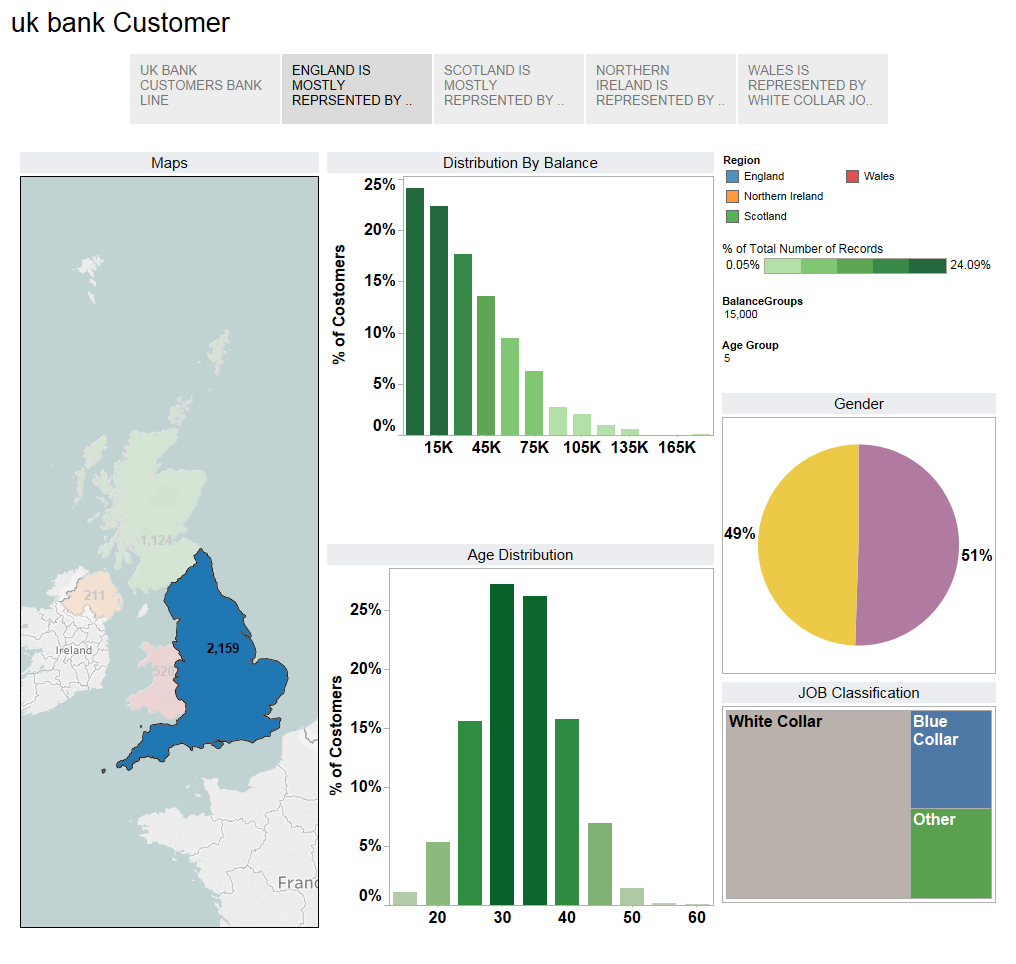

What the dashboard file says about the page in this screenshot:
{"tool":"tableau","page":{"name":"Costomer Segmentation","canvas":[1000,800],"ordinal":0},"visuals":[{"type":"worksheet","title":"Maps","mark":"Multipolygon","box":[8,8,306.9,784]},{"type":"worksheet","title":"Distribution By Balance ","mark":"Automatic","rows":["Number of Records"],"cols":["Balance (bin)"],"box":[314.9,8,395.1,392]},{"type":"legend","title":"Maps","param":"[federated.06w1h3n15af2w2138ys471fpdggo].[none:Region:nk]","box":[710,8,282,86]},{"type":"legend","title":"Distribution By Balance ","param":"[federated.06w1h3n15af2w2138ys471fpdggo].[pcto:sum:Number of Records:qk]","box":[710,94,282,56]},{"type":"parameter","param":"[Parameters].[Parameter 1]","box":[710,150,282,44]},{"type":"parameter","param":"[Parameters].[Parameter 2]","box":[710,194,282,55]},{"type":"worksheet","title":"Gender","mark":"Pie","box":[710,249,282,289]},{"type":"worksheet","title":"Age Distribution","mark":"Bar","rows":["Number of Records"],"cols":["Age (bin)"],"box":[314.9,400,395.1,392]},{"type":"worksheet","title":"JOB Classification","mark":"Automatic","box":[710,538,282,254]}]}

Visuals, with their boxes on the page's 1000x800 design canvas (x1, y1, x2, y2). These are canvas units, not pixel positions in the 1016x964 screenshot, which may show the page scaled, cropped or inside an application window:
"Maps" worksheet (Multipolygon marks): (x1=8, y1=8, x2=315, y2=792)
"Distribution By Balance " worksheet: (x1=315, y1=8, x2=710, y2=400)
"Maps" legend: (x1=710, y1=8, x2=992, y2=94)
"Distribution By Balance " legend: (x1=710, y1=94, x2=992, y2=150)
parameter: (x1=710, y1=150, x2=992, y2=194)
parameter: (x1=710, y1=194, x2=992, y2=249)
"Gender" worksheet (Pie marks): (x1=710, y1=249, x2=992, y2=538)
"Age Distribution" worksheet (Bar marks): (x1=315, y1=400, x2=710, y2=792)
"JOB Classification" worksheet: (x1=710, y1=538, x2=992, y2=792)
